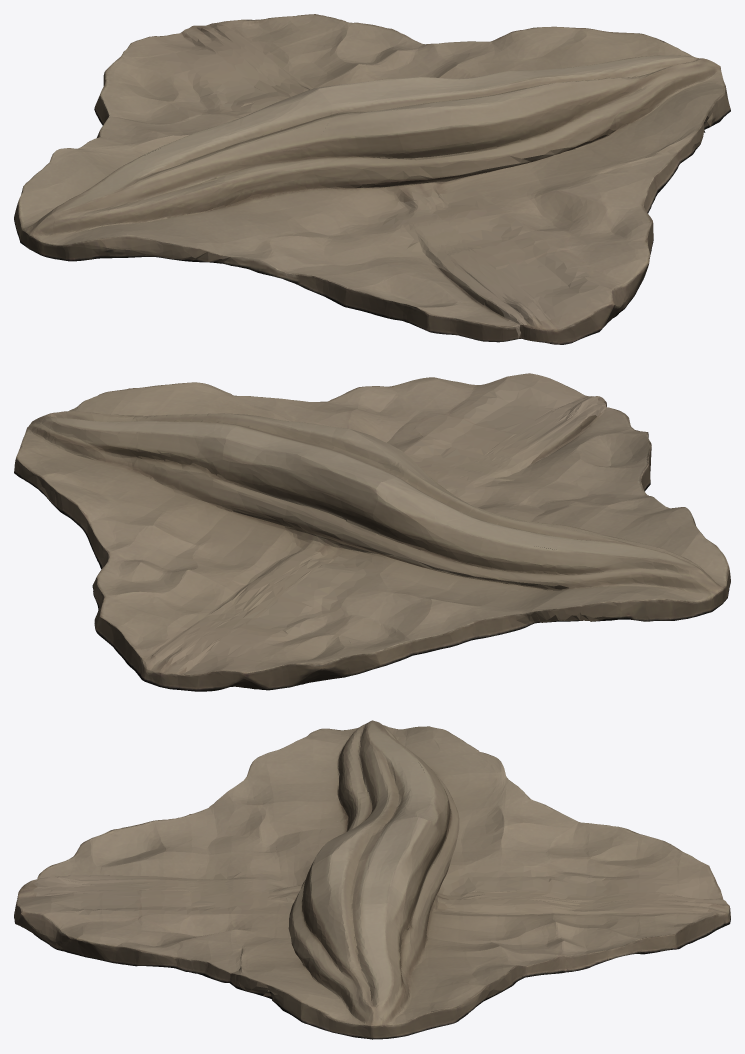
3 views of the same model, one above another, from view 1: azimuth 30°, elevation 25°; view 2: azimuth 150°, elevation 25°; view 3: azimuth 270°, elevation 25° (orthographic). The views are drawn at different scales.
Visible parts, largest first — view 1: world; view 2: world; view 3: world.
Boxes of the visible parts, bbox=[...] form: world: bbox=[14, 14, 730, 344]; world: bbox=[14, 373, 730, 691]; world: bbox=[14, 720, 730, 1039].
Bounding box in the file's own units: 0.999 × 0.1331 × 1.
Materials: 1 (1 with a texture image).
